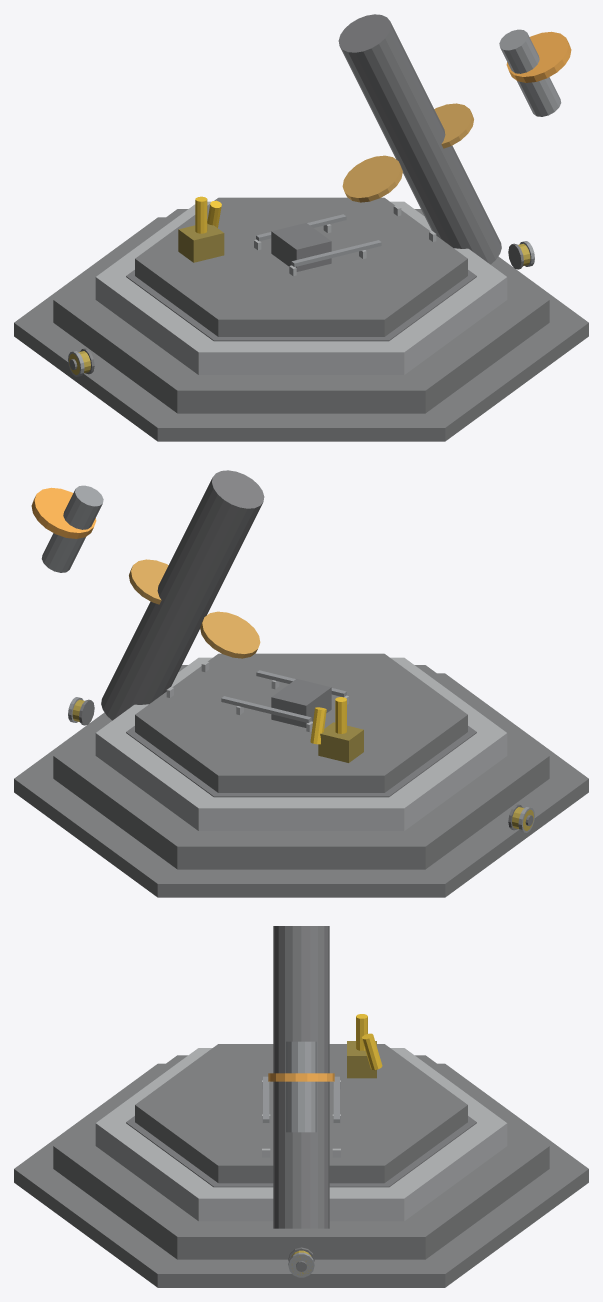
File: howitzer_s1_100.glb
The picture shows the model from 3 angles, top to bottom: view 1: azimuth 30°, elevation 25°; view 2: azimuth 150°, elevation 25°; view 3: azimuth 270°, elevation 25°; orthographic projection.
Parts seen in each view (by area): view 1: H_AmmoCrate; view 2: H_AmmoCrate; view 3: H_AmmoCrate.
Boxes of the visible parts, x1,y1,x2,y2 form: H_AmmoCrate: (14, 14, 588, 441); H_AmmoCrate: (14, 470, 588, 897); H_AmmoCrate: (14, 926, 588, 1287).
Bounding box in the file's own units: 5.65 × 3.26 × 5.7.
